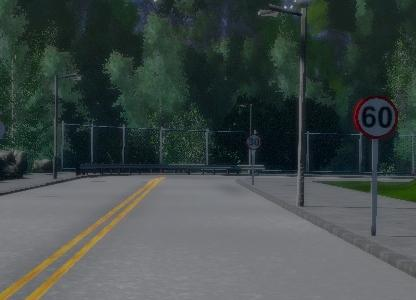Speed_60: (353, 92, 399, 139)
